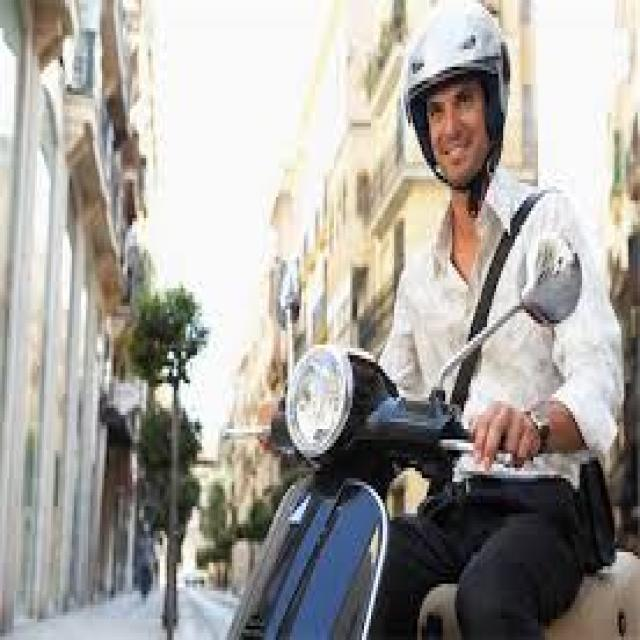Helmet: (380, 0, 512, 134)
